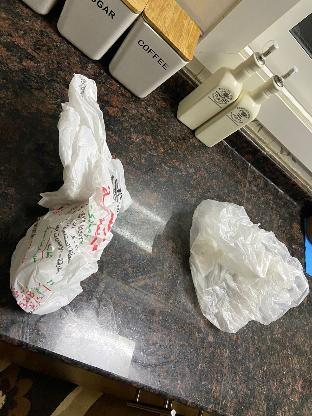Plastic Bag: (8, 71, 134, 313), (189, 195, 309, 334)
